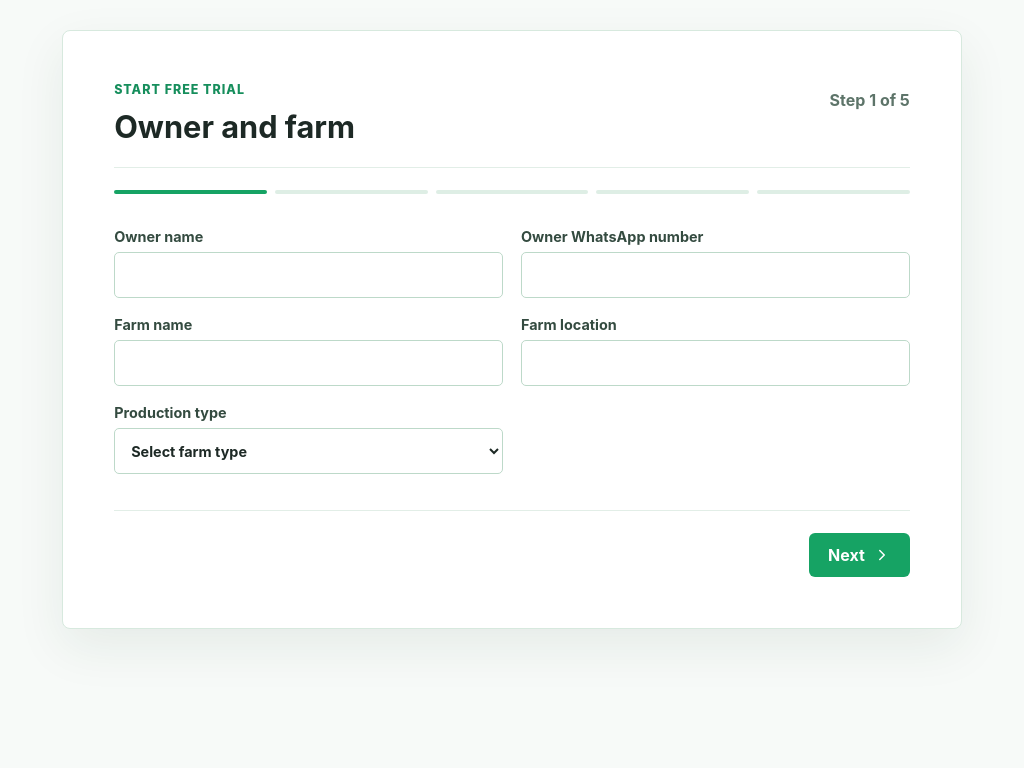
Test: TrialForm › blocks the first step until owner and farm fields are provided
The image size is (1024, 768).
Click the button "Next".
click(859, 555)  # box [809,533,910,577]
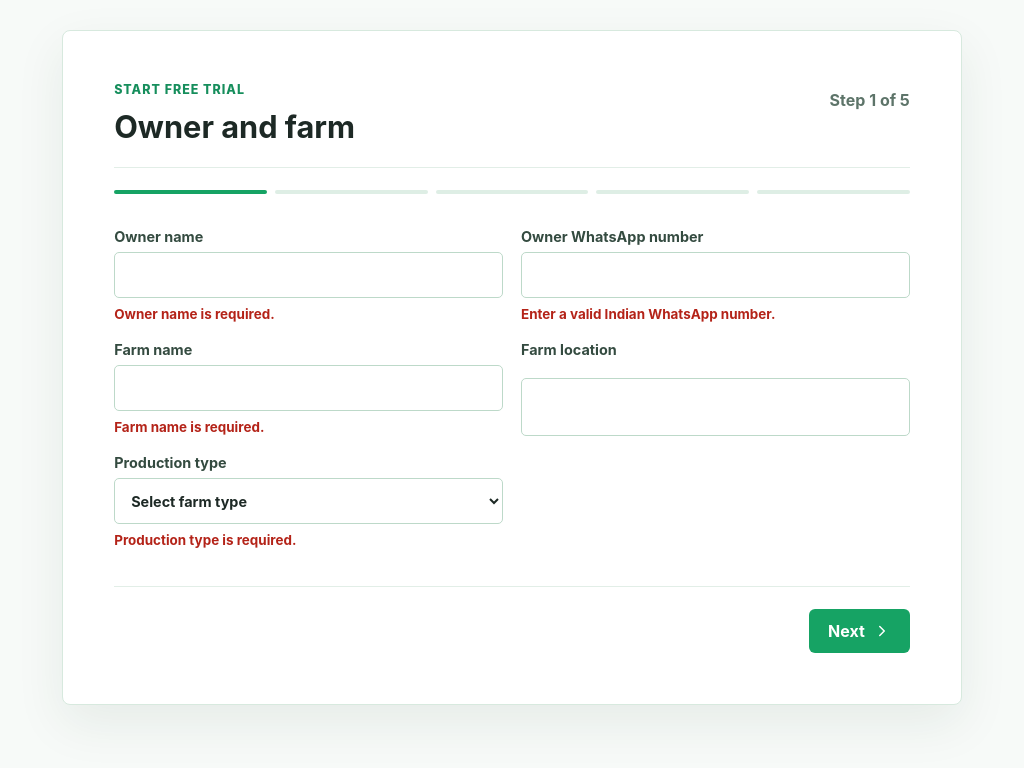
Expected: the text "Step 1 of 5" is shown, [830,90,910,110]
Result: the text "Owner name is required." is shown at [114,306,275,322]
